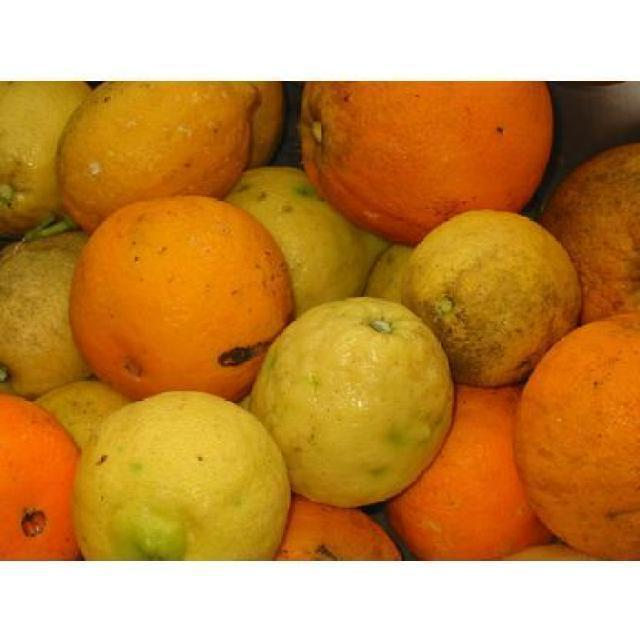Orange: (294, 80, 638, 320), (65, 196, 292, 402), (53, 80, 258, 237), (510, 313, 638, 555), (380, 384, 554, 550), (223, 168, 389, 312), (0, 392, 78, 553), (276, 490, 398, 553)
